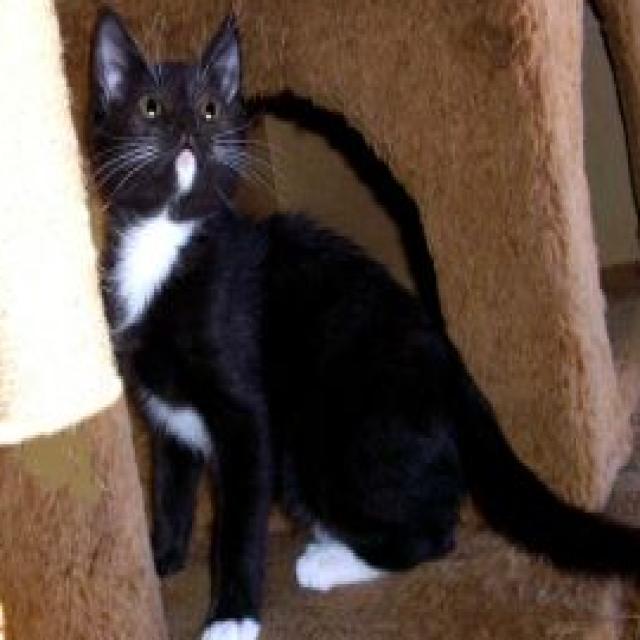Tuxedo: (85, 0, 640, 640)
